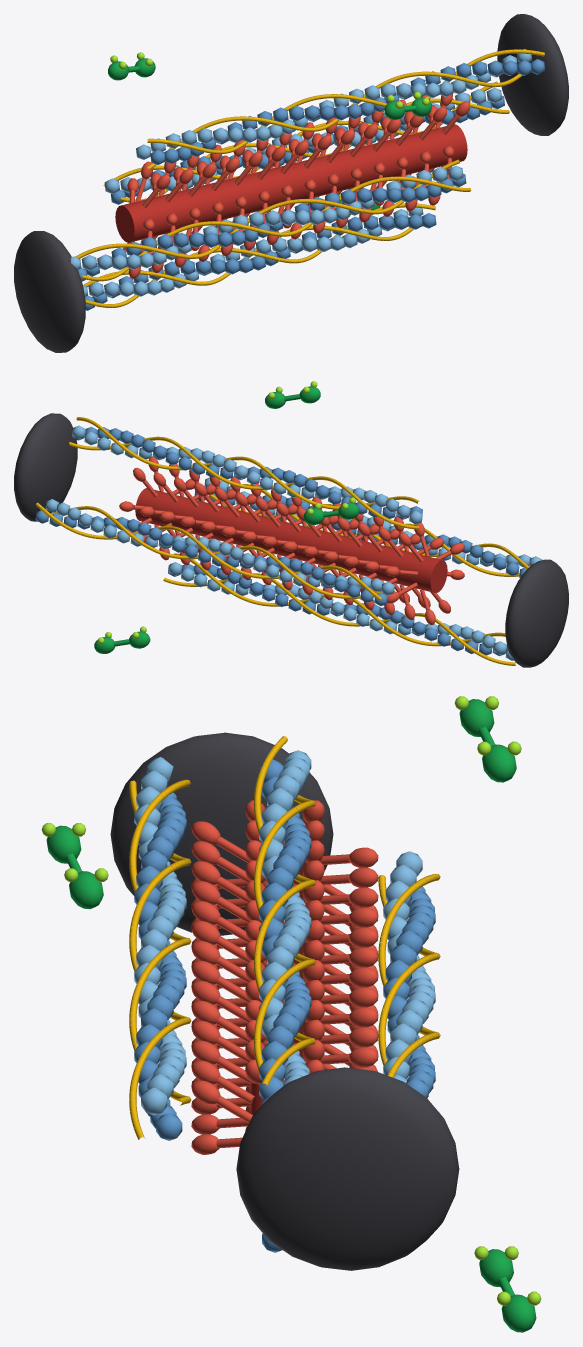
File: smoothfilaments.glb
3 renders of one model, top to bottom at view 1: azimuth 30°, elevation 25°; view 2: azimuth 150°, elevation 25°; view 3: azimuth 270°, elevation 25°, orthographic. The views are drawn at different scales.
Visible parts, largest first — view 1: Thick filament, Actin.002, Actin.003, Actin.004, Dense bodies.002, Dense bodies.001, Actin.001, Tropomyosin.005, Tropomyosin.006, Tropomyosin.004, Tropomyosin.003, Tropomyosin.008 (+5 smaller); view 2: Thick filament, Actin.001, Actin.002, Actin.004, Dense bodies.002, Dense bodies.001, Actin.003, Tropomyosin.004, Tropomyosin.002, Tropomyosin.003, Tropomyosin.001, Tropomyosin.008 (+6 smaller); view 3: Dense bodies.001, Actin.003, Dense bodies.002, Actin.002, Actin.001, Tropomyosin.005, Tropomyosin.003, Tropomyosin.006, Tropomyosin.004, Calmodulin.001, Calmodulin.002, Calmodulin.003 (+16 smaller).
Boxes of the visible parts, x1,y1,x2,y2 form: Thick filament: (115,124,467,242); Actin.002: (136,49,545,165); Actin.003: (70,165,466,281); Actin.004: (83,204,436,310); Dense bodies.002: (14,231,85,352); Dense bodies.001: (497,14,568,135); Actin.001: (104,87,504,204); Tropomyosin.005: (81,176,471,281); Tropomyosin.006: (75,159,459,258); Tropomyosin.004: (147,71,522,170); Tropomyosin.003: (147,49,544,154); Tropomyosin.008: (84,225,413,286); Thick filament: (135,488,447,593); Actin.001: (35,499,394,606); Actin.002: (72,425,422,524); Actin.004: (168,562,514,660); Dense bodies.002: (505,559,568,667); Dense bodies.001: (14,413,77,521); Actin.003: (194,477,542,577); Tropomyosin.004: (69,436,419,529); Tropomyosin.002: (35,502,381,600); Tropomyosin.003: (76,417,419,509); Tropomyosin.001: (51,506,394,598); Tropomyosin.008: (163,573,515,665); Dense bodies.001: (236,1067,459,1270); Actin.003: (134,757,186,1140); Dense bodies.002: (110,732,333,935); Actin.002: (259,750,311,1104); Actin.001: (383,851,435,1098); Tropomyosin.005: (129,780,191,1139); Tropomyosin.003: (253,736,315,1085); Tropomyosin.006: (129,779,191,1105); Tropomyosin.004: (253,795,315,1071); Calmodulin.001: (459,699,516,782); Calmodulin.002: (46,825,103,909); Calmodulin.003: (479,1249,536,1332).
Size of the model in its own units: 8.65 by 3.51 by 3.81.
